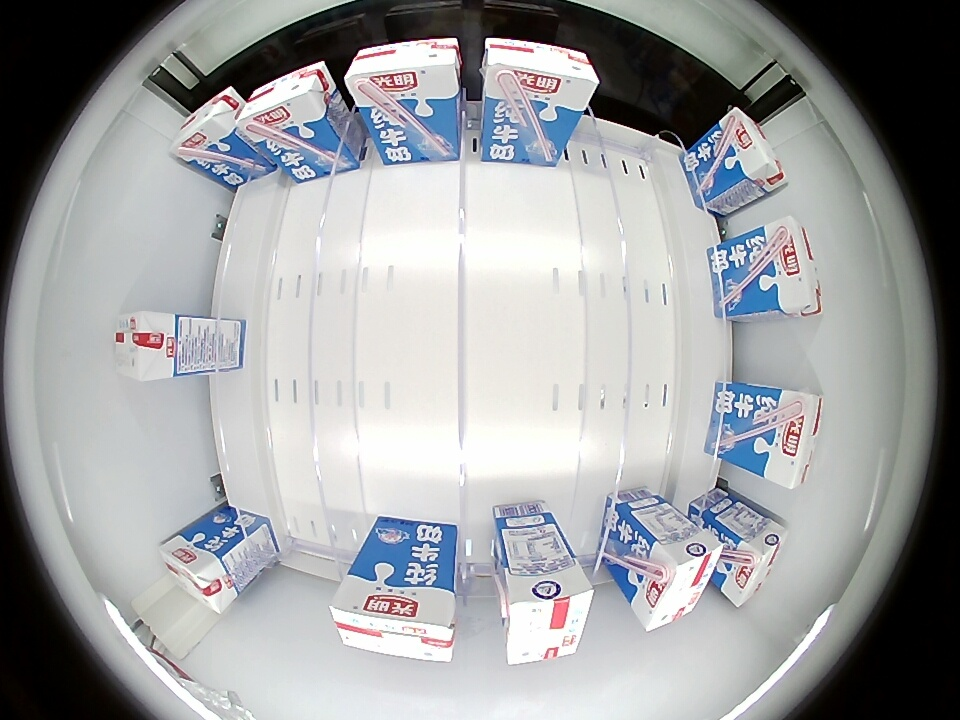niunai: (330, 565, 457, 664), (633, 525, 727, 632), (345, 37, 462, 117), (503, 561, 593, 664), (232, 60, 337, 147), (482, 38, 599, 114), (756, 214, 822, 317), (159, 530, 239, 614), (758, 388, 824, 489), (715, 107, 788, 198), (722, 517, 788, 607), (170, 86, 243, 167), (115, 312, 181, 380)
